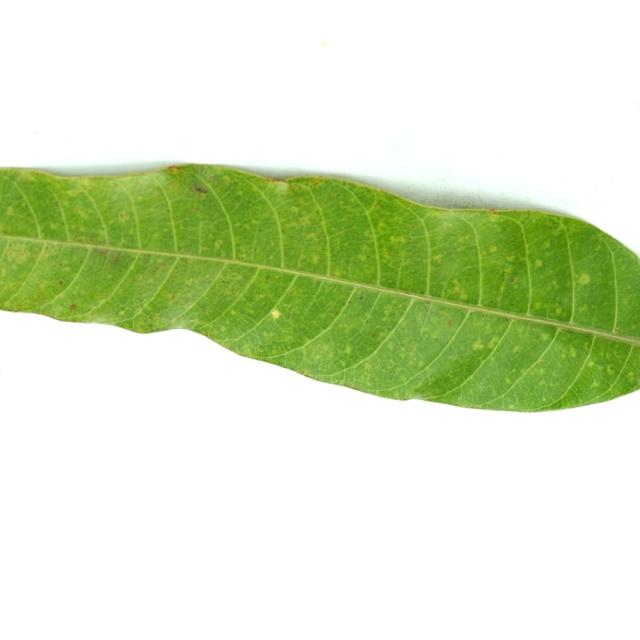Mango: (0, 165, 639, 409)
Powdery_Mildew: (608, 327, 640, 346), (6, 244, 32, 264), (215, 274, 247, 289), (266, 306, 294, 323), (379, 307, 398, 324), (447, 280, 463, 294), (356, 251, 370, 265), (285, 181, 304, 191), (576, 273, 591, 285), (389, 236, 405, 247), (110, 252, 123, 265), (200, 329, 216, 339), (380, 248, 392, 261), (192, 184, 207, 194), (488, 337, 500, 348), (472, 340, 484, 351), (118, 211, 129, 223), (297, 368, 311, 377), (299, 216, 311, 226), (437, 308, 449, 317), (5, 206, 15, 216), (512, 344, 522, 354), (152, 313, 163, 322), (311, 352, 322, 361), (568, 347, 577, 357), (214, 240, 223, 250), (503, 266, 513, 275), (578, 304, 588, 313), (420, 327, 430, 336), (627, 371, 635, 382), (306, 233, 317, 241), (534, 259, 543, 268), (86, 233, 95, 242), (241, 348, 251, 356), (222, 175, 232, 183), (290, 206, 300, 214), (533, 302, 543, 310), (167, 165, 180, 171), (312, 180, 323, 187), (433, 255, 442, 263), (606, 366, 615, 374), (343, 346, 352, 354), (311, 255, 319, 264), (591, 380, 600, 388), (540, 332, 549, 340), (541, 241, 550, 249), (489, 246, 498, 254), (338, 358, 347, 366), (69, 303, 77, 311), (207, 175, 216, 182), (508, 402, 517, 409), (38, 295, 47, 302), (321, 40, 329, 47), (588, 360, 595, 368), (364, 362, 372, 369), (555, 307, 562, 315), (333, 309, 340, 317), (0, 269, 7, 277), (489, 209, 498, 215), (447, 320, 454, 327), (538, 379, 545, 386), (505, 377, 512, 384), (51, 223, 58, 230), (539, 360, 547, 366), (191, 206, 199, 212), (230, 310, 237, 316), (371, 332, 378, 338), (421, 290, 427, 296), (341, 202, 348, 207), (357, 295, 364, 300), (274, 274, 281, 279), (389, 281, 396, 286), (119, 310, 125, 315), (8, 242, 14, 247), (171, 293, 176, 299), (467, 313, 473, 318), (424, 303, 429, 309), (58, 280, 63, 285), (615, 327, 620, 332), (509, 278, 514, 283), (433, 272, 438, 277), (264, 275, 268, 280)
